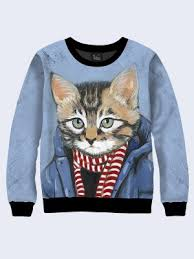cat: (46, 61, 144, 155)
